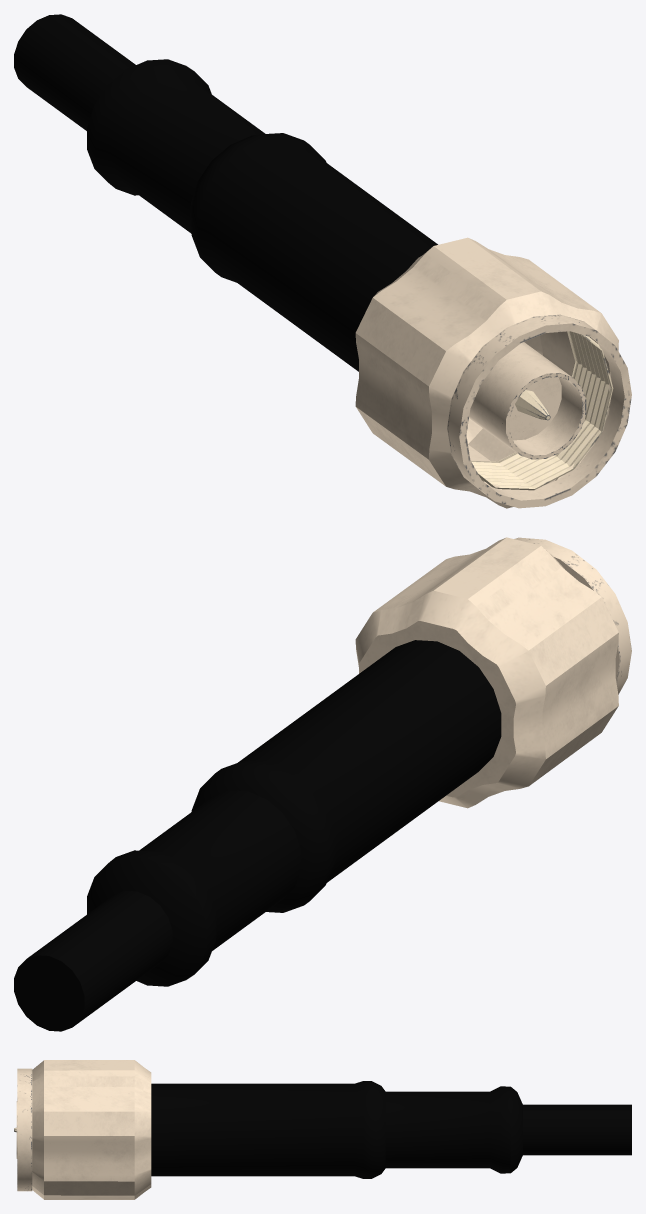
File: Kabel RRU.fbx
3 views of the same model, one above another, from view 1: azimuth 30°, elevation 25°; view 2: azimuth 150°, elevation 25°; view 3: azimuth 270°, elevation 25° (orthographic). The views are drawn at different scales.
Parts seen in each view (by area): view 1: Cylinder.003, Cylinder.001, Cylinder, Cylinder.002, Nut; view 2: Cylinder.003, Cylinder.001, Cylinder; view 3: Cylinder.003, Cylinder.001, Cylinder.
Part boxes in pixels (x1,y1,x2,y2): Cylinder.003: [14, 14, 437, 371]; Cylinder.001: [355, 237, 618, 508]; Cylinder: [447, 314, 631, 508]; Cylinder.002: [469, 342, 586, 459]; Nut: [471, 331, 613, 490]; Cylinder.003: [14, 640, 501, 1031]; Cylinder.001: [355, 537, 618, 808]; Cylinder: [514, 537, 631, 694]; Cylinder.003: [151, 1081, 631, 1178]; Cylinder.001: [32, 1060, 151, 1199]; Cylinder: [17, 1068, 32, 1191].
Bounding box in the file's own units: 55.22 × 58.01 × 251.
Materials: 3 (3 with a texture image).
